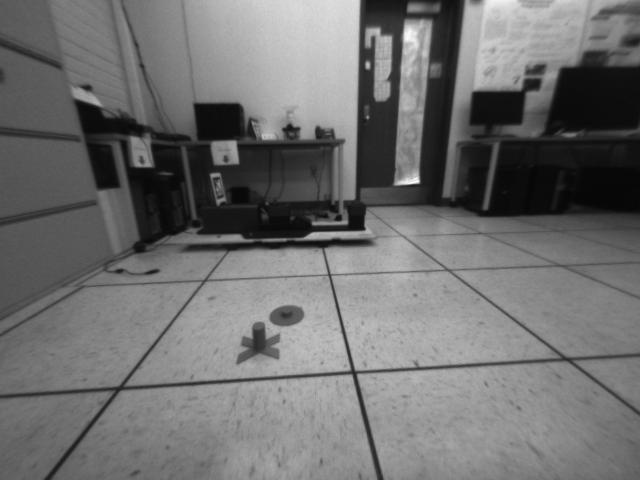X: (235, 320, 281, 365)
